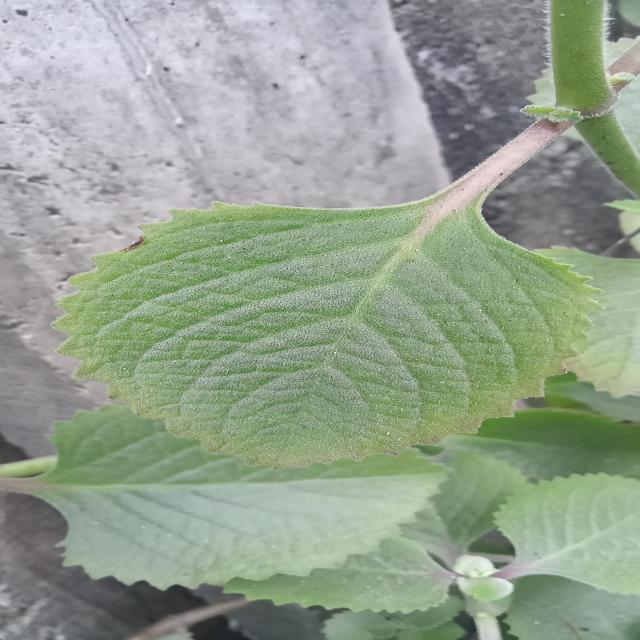Oregano: (42, 192, 623, 474)
